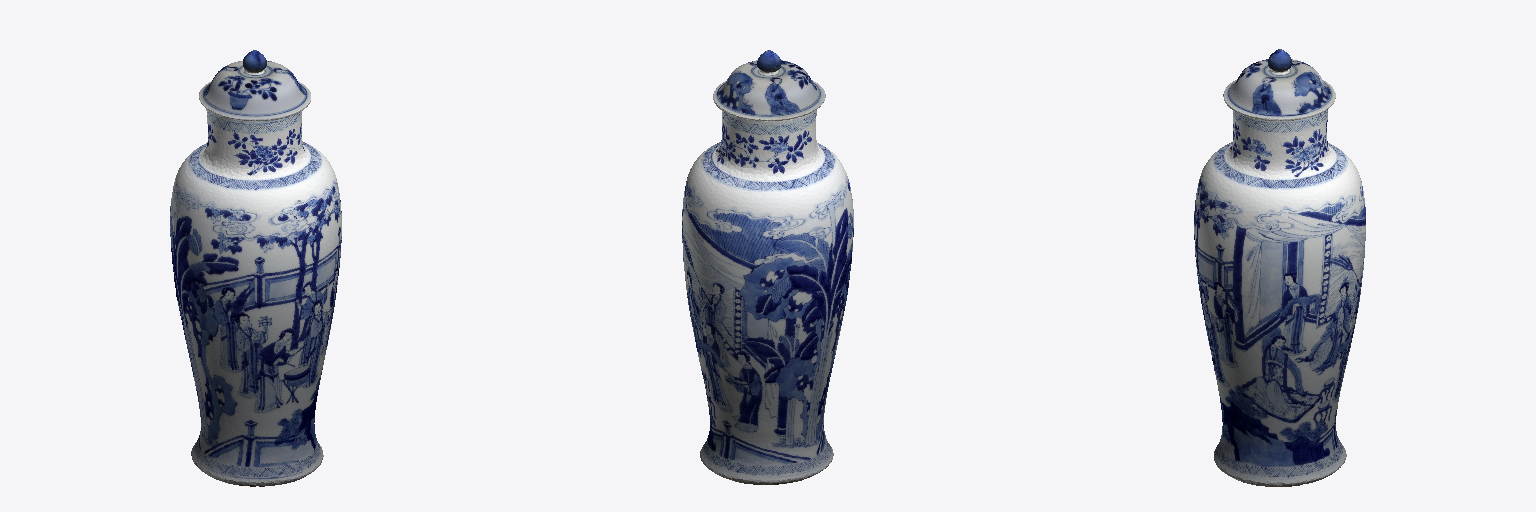
3 renders of one model, left to right at view 1: azimuth 30°, elevation 25°; view 2: azimuth 150°, elevation 25°; view 3: azimuth 270°, elevation 25°, orthographic.
Size of the model in its own units: 0.1722 by 0.4557 by 0.172.
Materials: 2 (2 with a texture image).